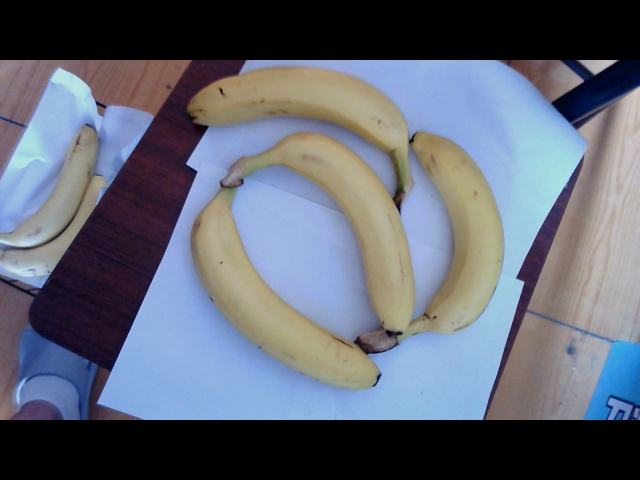banana: (180, 132, 510, 390), (2, 124, 107, 280), (195, 65, 409, 138)
